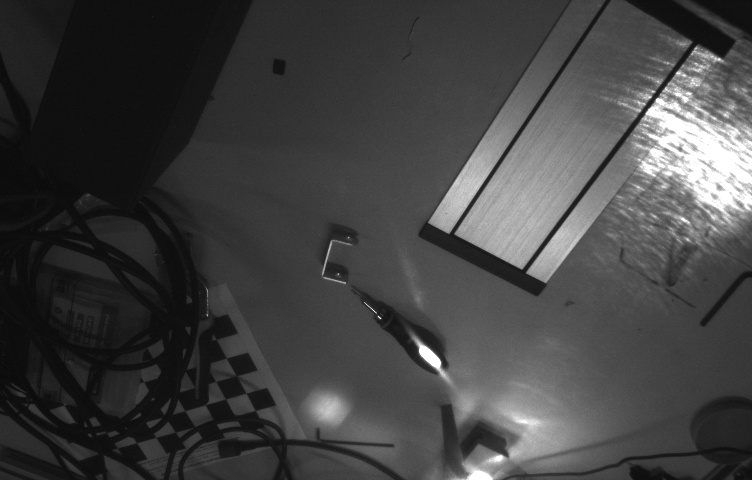Object precision screwdriver - Material Metal - Pdfname NoEr35VbQ7sR: (392, 327, 454, 384)
